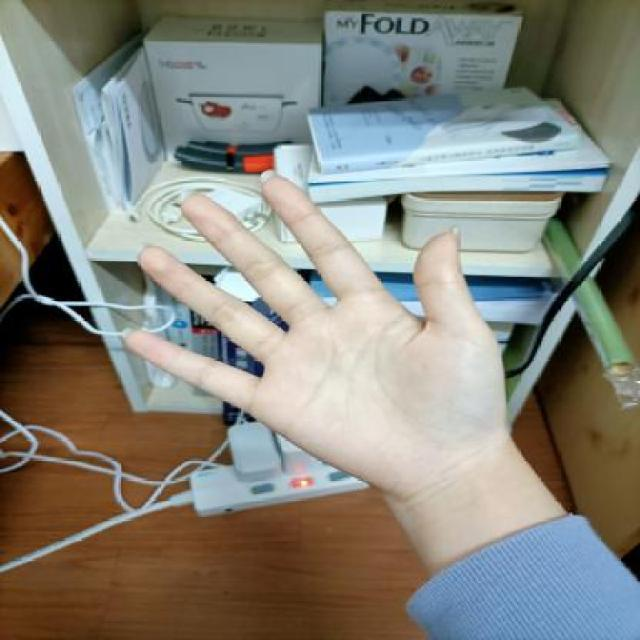bare_hand: (108, 155, 528, 514)
